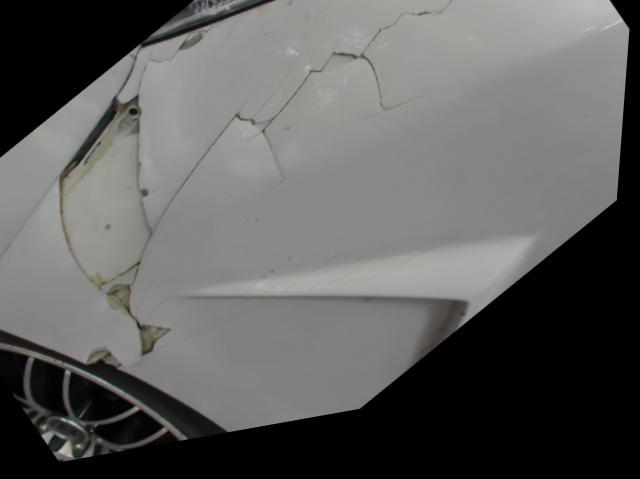crack: (58, 0, 486, 374)
